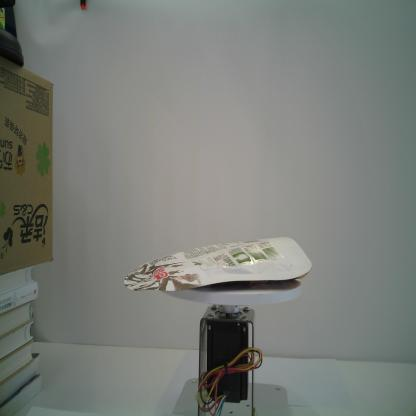Dried Fruit: (123, 236, 313, 292)
